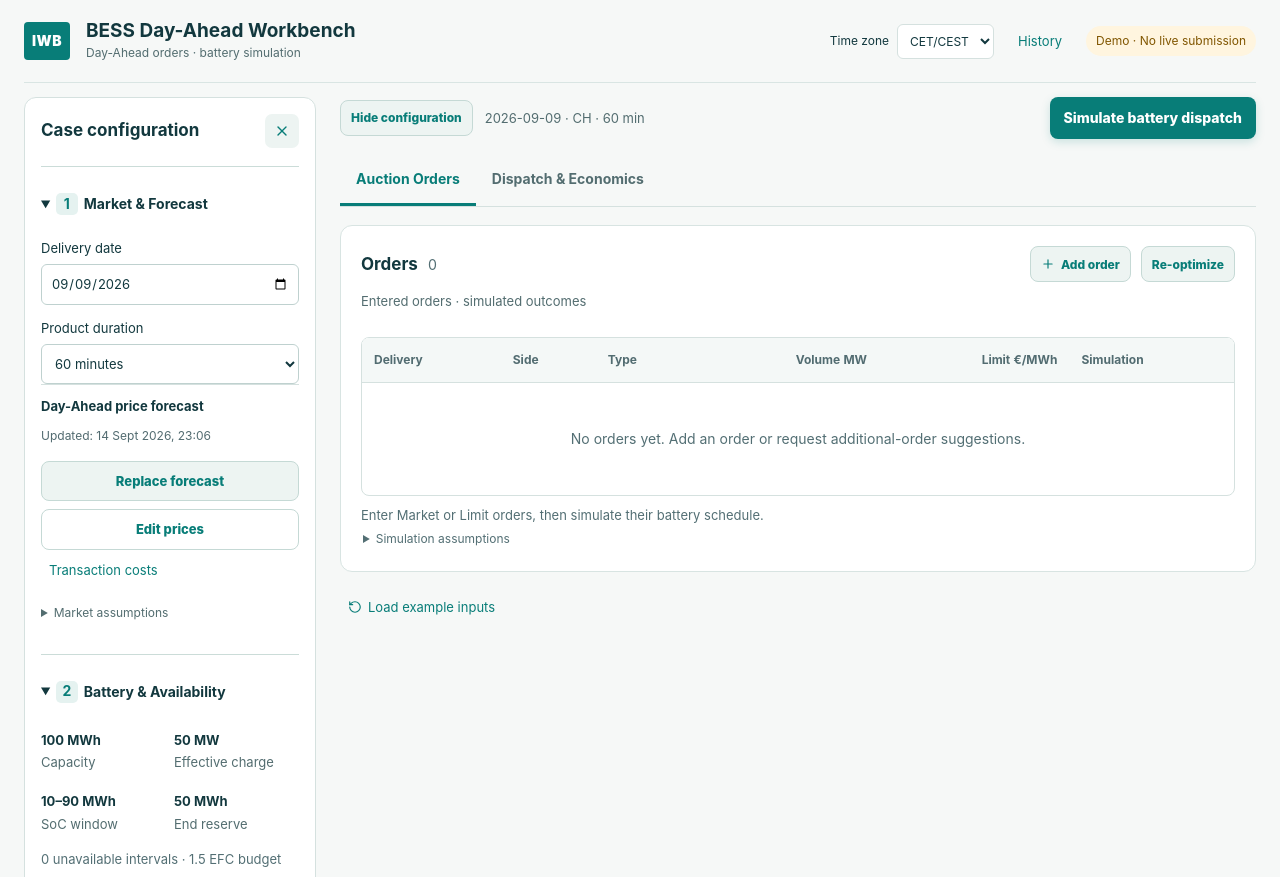
Test: OrderSimulatorWorkbench › shows one actionable volume error instead of duplicate helper text
The image size is (1280, 877).
Check: the button "Replace forecast" is shown, box [41,460,299,501]
Click the button "Load example inputs": (422, 607) [340,590,503,625]
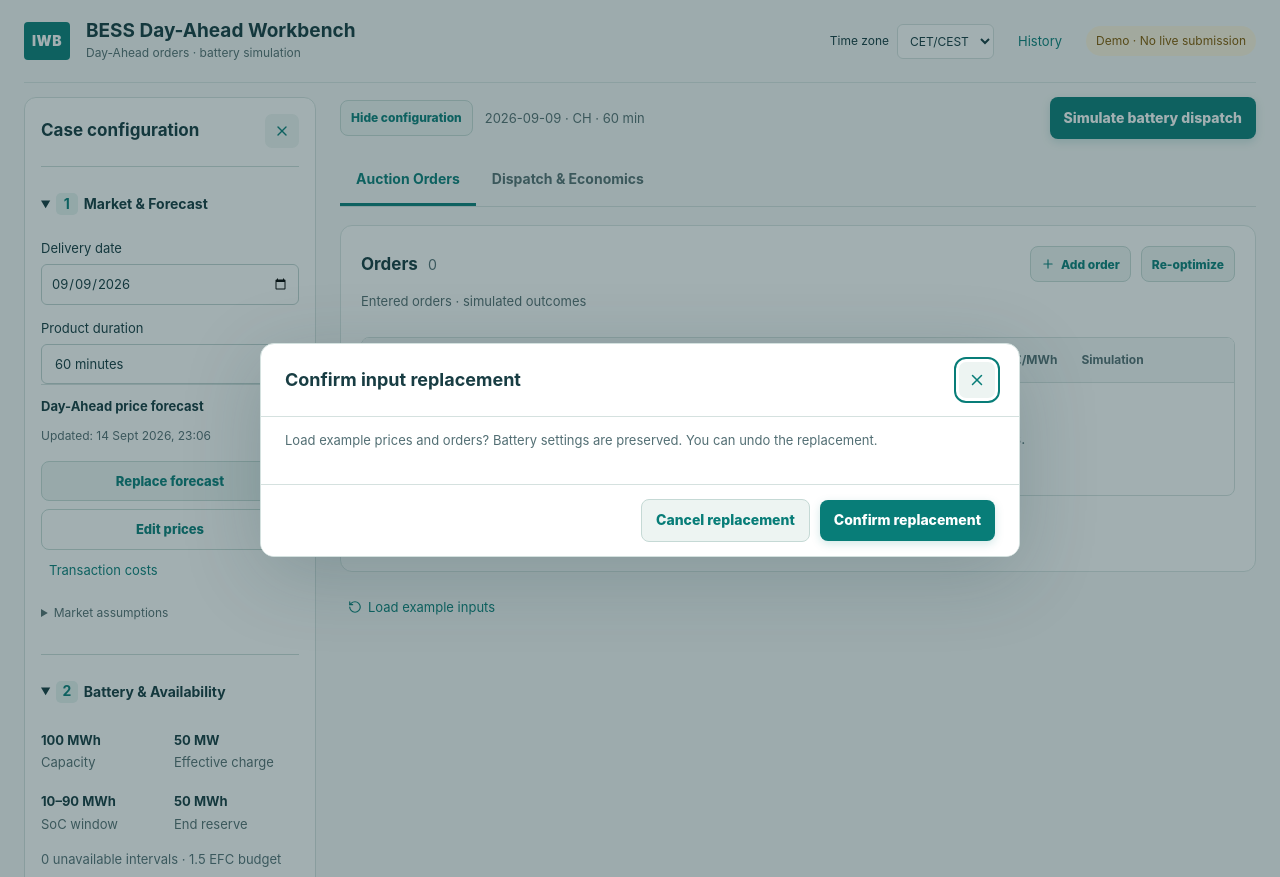
Click the button "Confirm replacement": (907, 520) [820,500,995,541]
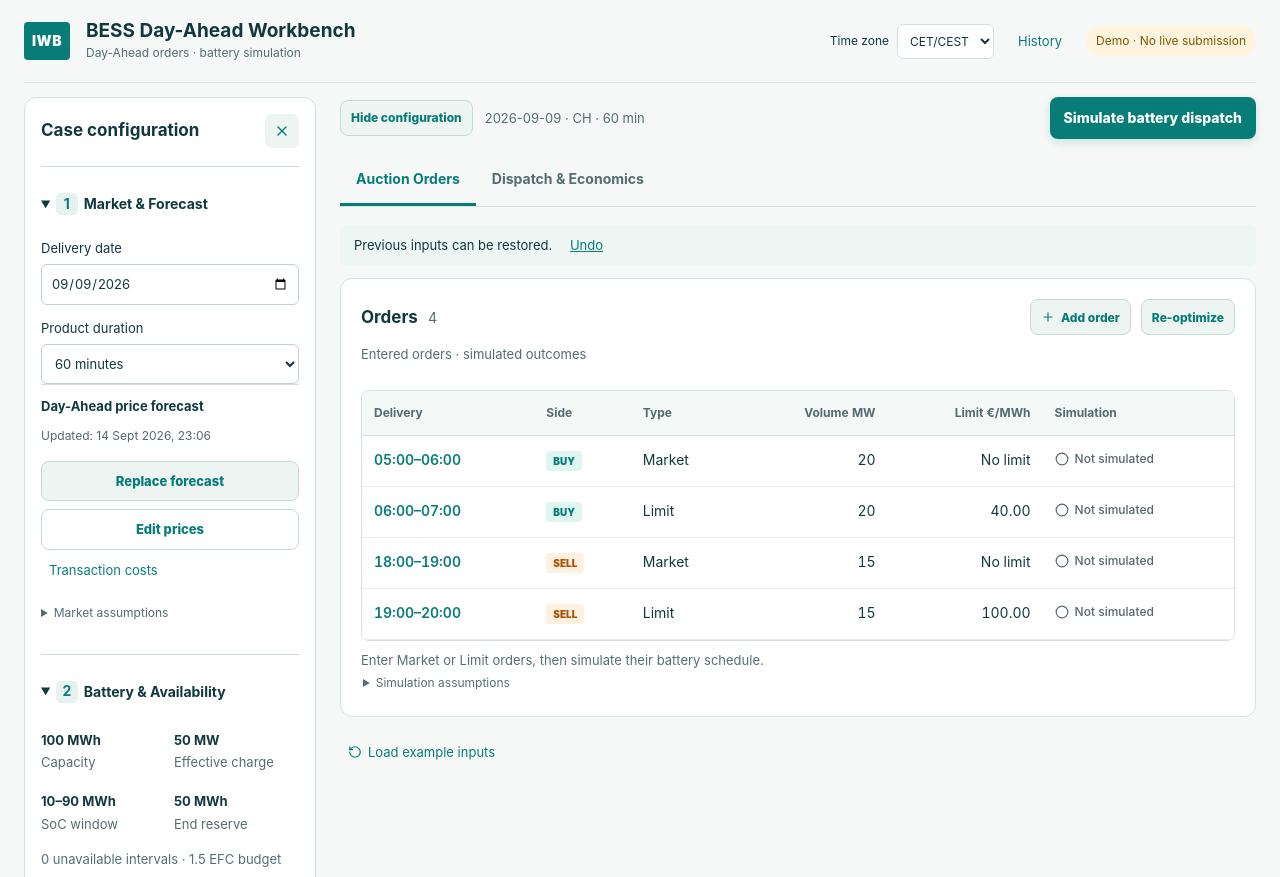
Check: the button named "Edit 05:00–06:00 BUY order" is shown
Click the button named "Edit 05:00–06:00 BUY order": (418, 461) [374,447,461,475]
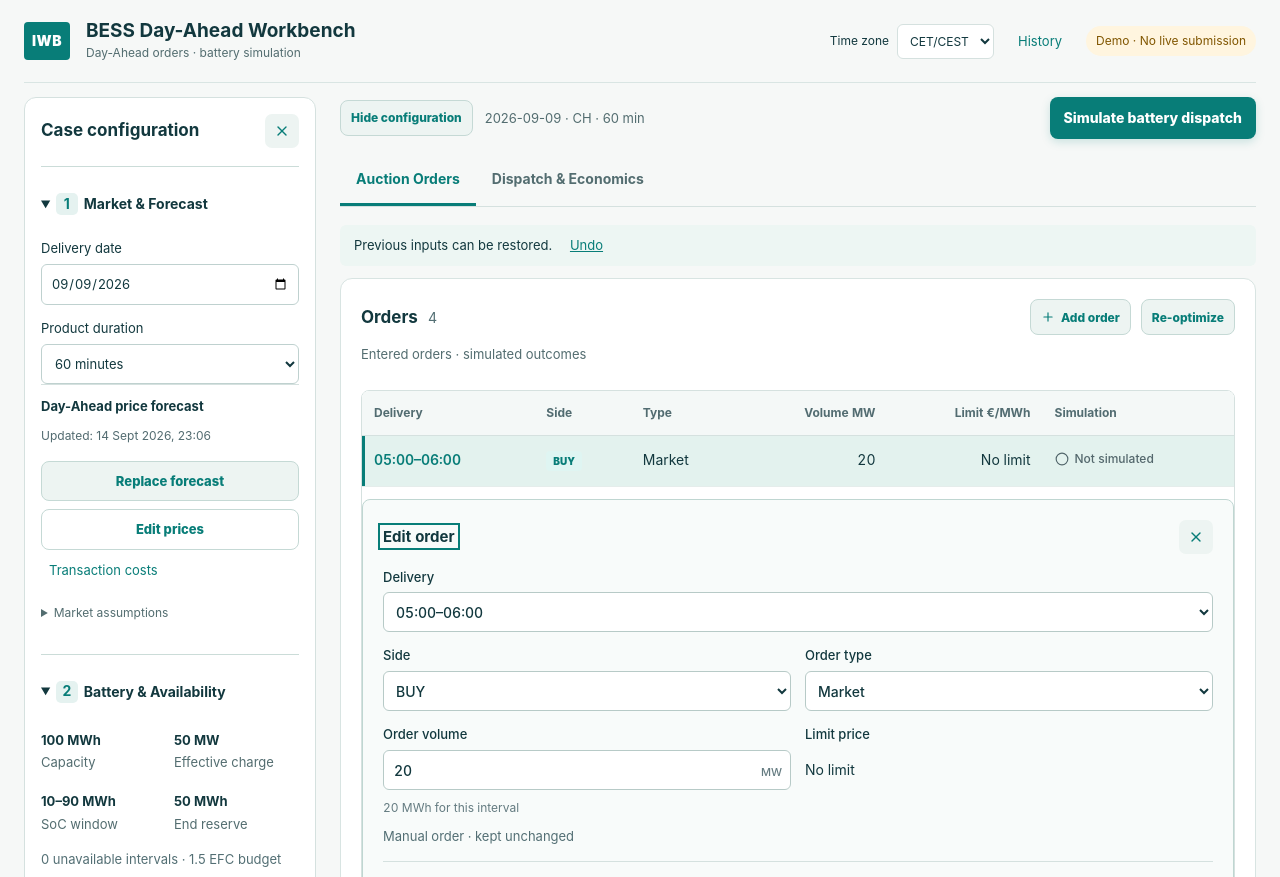
Replace the text in the number field named "Volume for order 1" with "-1": (587, 770) [383,750,791,790]
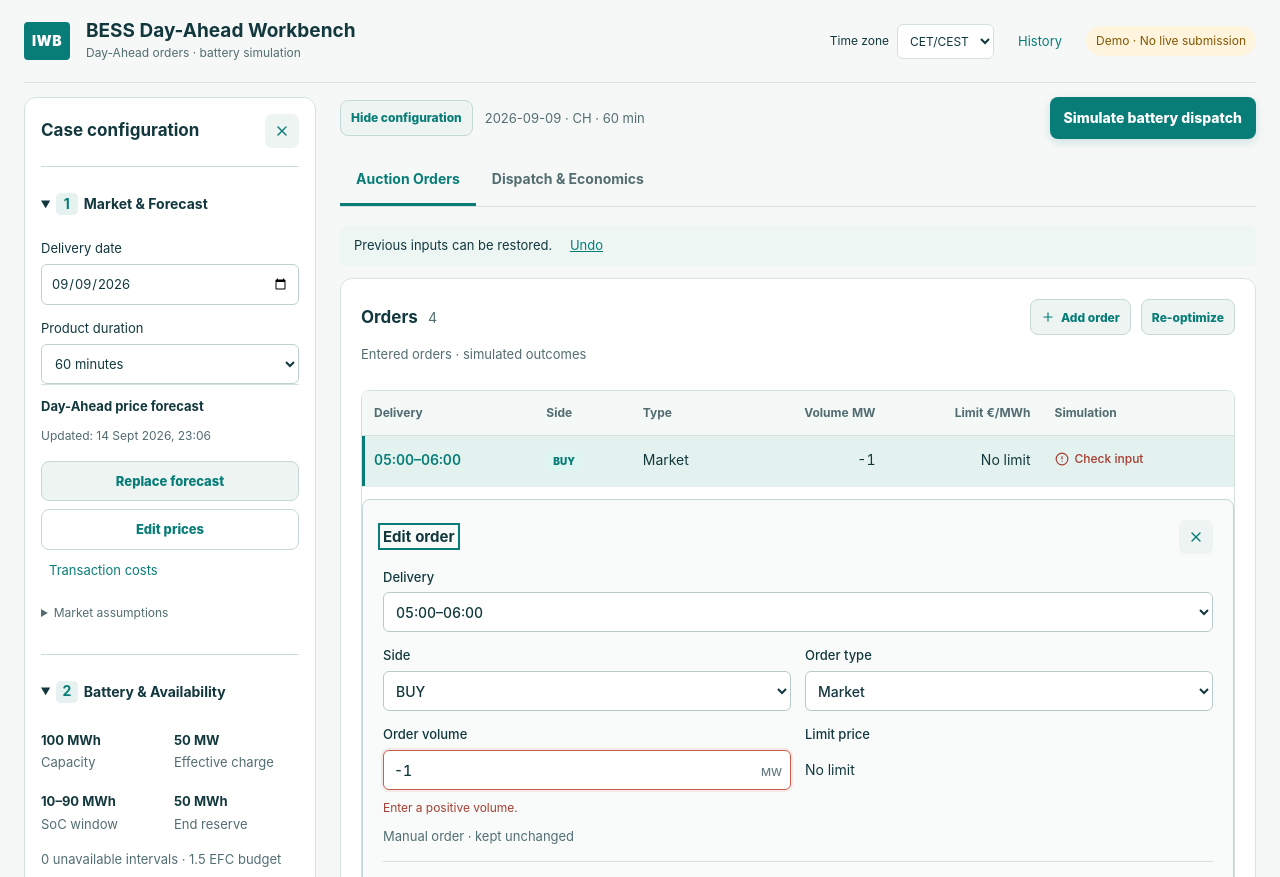
Check: the text "Enter a positive volume." is shown, box [383,800,518,815]
